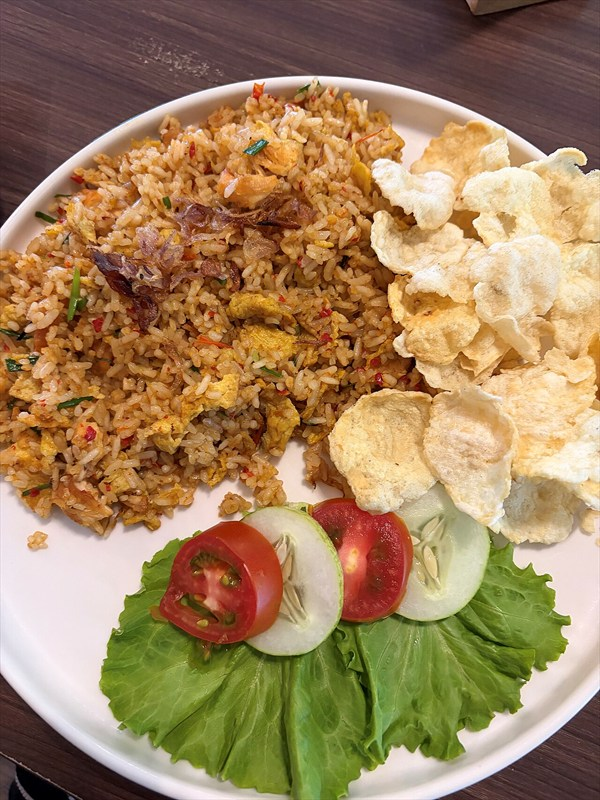Nasi Goreng: (35, 92, 550, 608)
